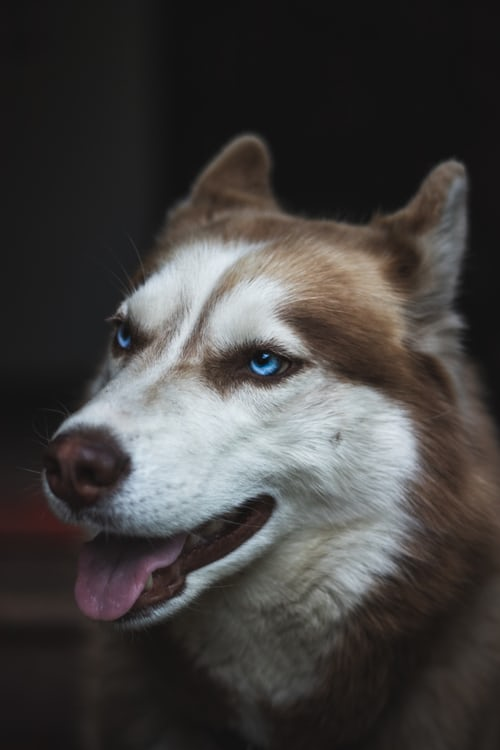husky: (1, 126, 497, 637)
